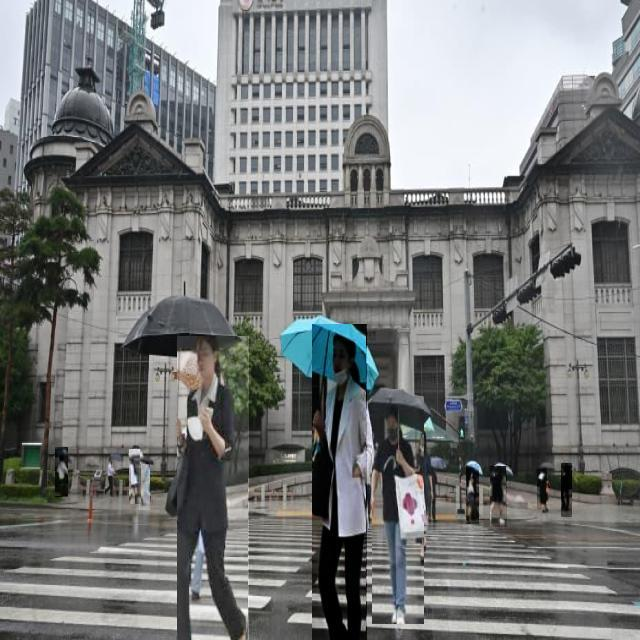without scooter: (178, 336, 250, 640), (313, 324, 368, 640), (372, 396, 424, 624), (491, 466, 508, 527), (466, 464, 479, 524), (130, 450, 142, 504), (56, 448, 68, 498), (561, 464, 572, 518), (140, 464, 150, 510), (538, 470, 548, 510)
